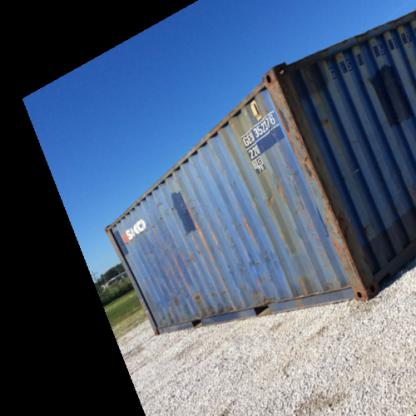Damage: (169, 284, 234, 318), (319, 201, 355, 245), (158, 190, 204, 221), (291, 270, 344, 292), (248, 280, 282, 308), (262, 172, 286, 209), (276, 96, 300, 133), (300, 148, 324, 183), (174, 241, 208, 263), (239, 212, 261, 243), (130, 223, 158, 237)
